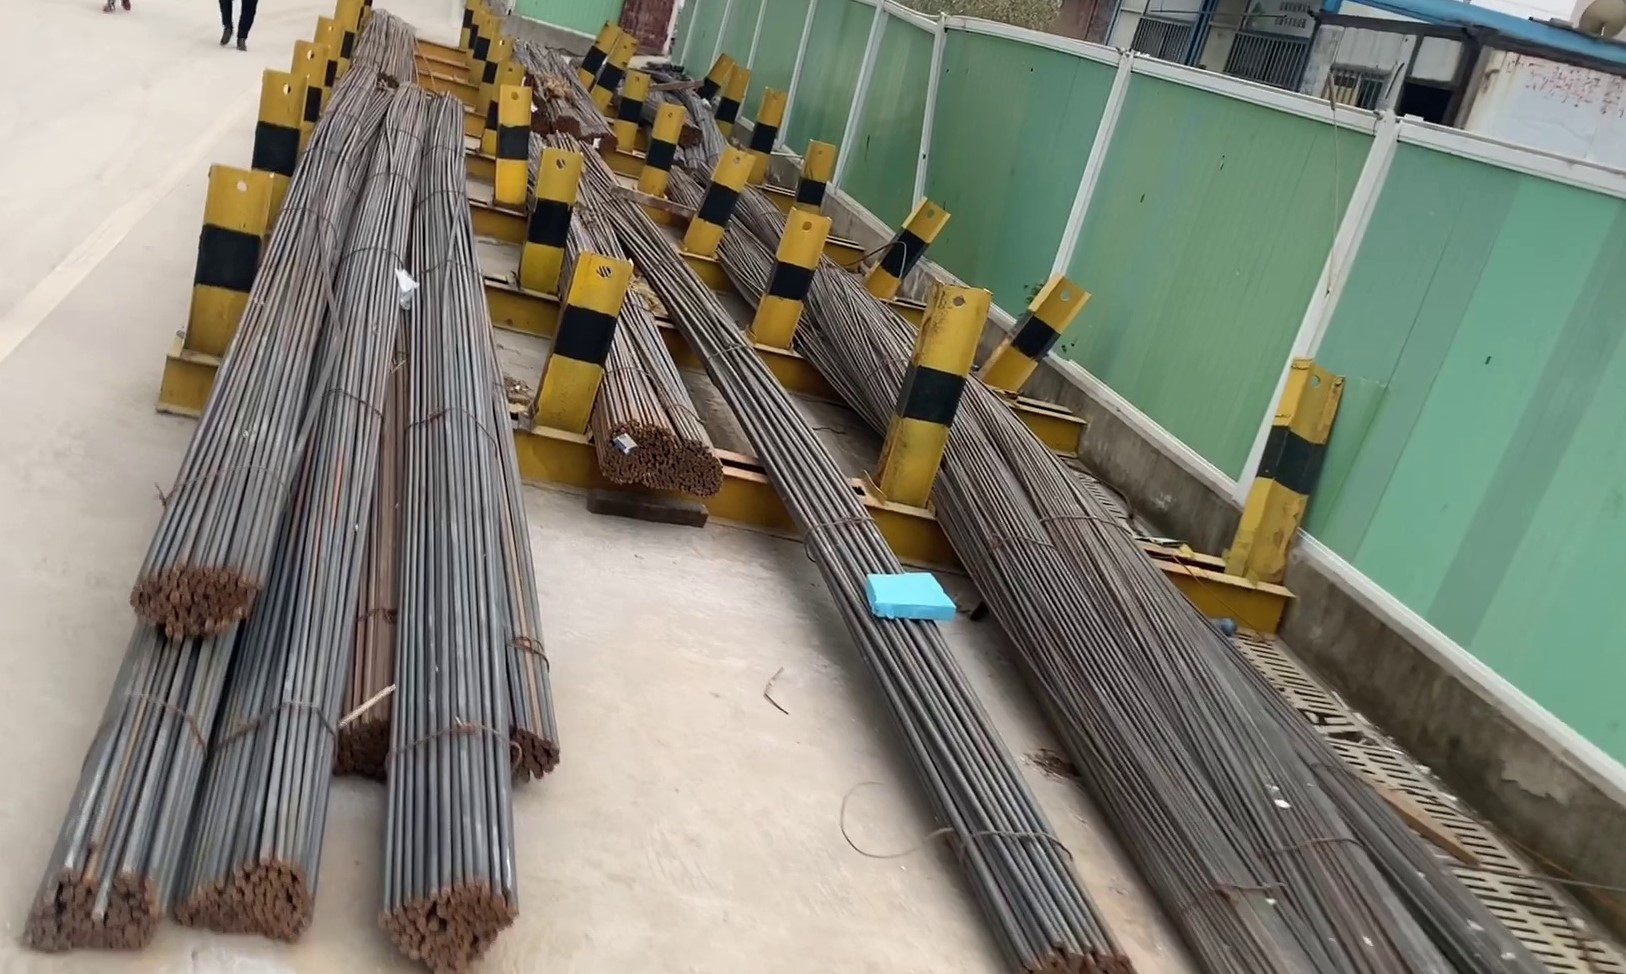rebar: (17, 853, 160, 948), (175, 852, 326, 942), (121, 553, 258, 642), (391, 875, 523, 968), (598, 419, 725, 494), (1018, 926, 1137, 974), (502, 715, 573, 783), (331, 704, 393, 778)
